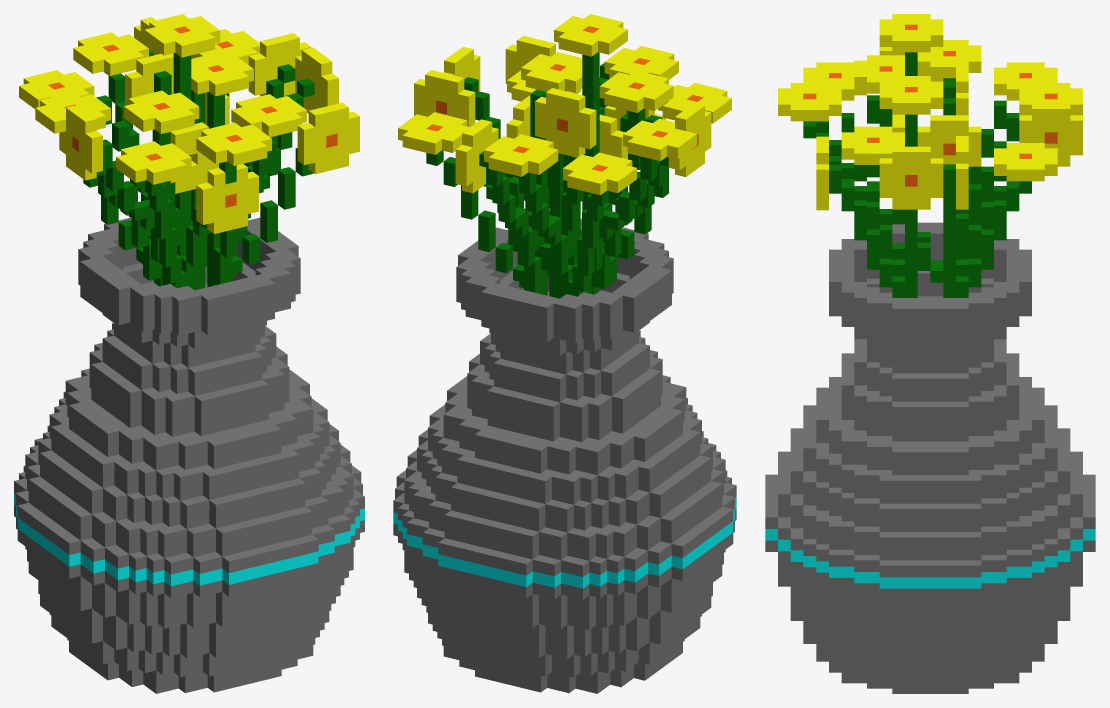
Rendered from Flower Pot-3.obj.
3 views of the same model, side by side, from view 1: azimuth 30°, elevation 25°; view 2: azimuth 150°, elevation 25°; view 3: azimuth 270°, elevation 25° (orthographic). The views are drawn at different scales.
Parts seen in each view (by area): view 1: Flower Pot-3; view 2: Flower Pot-3; view 3: Flower Pot-3.
Part boxes in pixels (x1,y1,x2,y2): Flower Pot-3: (14,14,364,693); Flower Pot-3: (393,14,736,693); Flower Pot-3: (765,14,1095,693).
Bounding box in the file's own units: 26 × 53 × 26.
